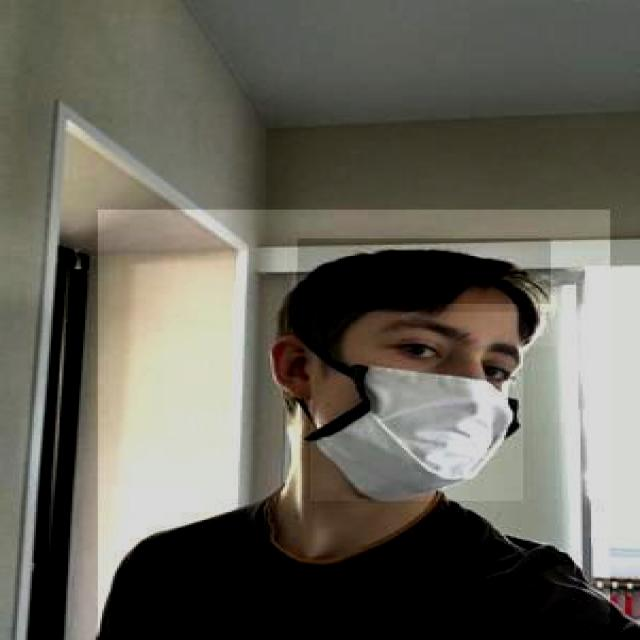face_mask: (310, 312, 523, 501)
head_nohelmet: (298, 238, 550, 304)
person: (96, 210, 610, 638)
